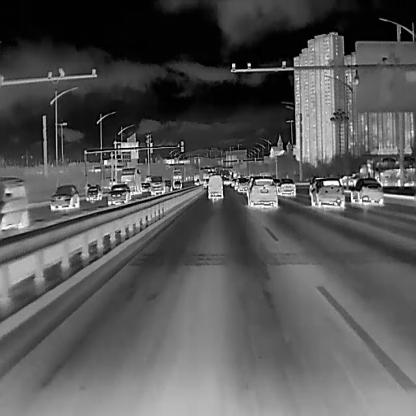car: (0, 178, 30, 228), (310, 178, 344, 208), (246, 175, 277, 207), (350, 178, 383, 205), (50, 182, 78, 210), (106, 184, 130, 204), (207, 175, 222, 199), (276, 176, 294, 196), (149, 174, 164, 194), (85, 184, 101, 200), (236, 178, 247, 192), (163, 179, 171, 191), (140, 182, 150, 190)
truck: (121, 167, 141, 194), (171, 168, 181, 188)
